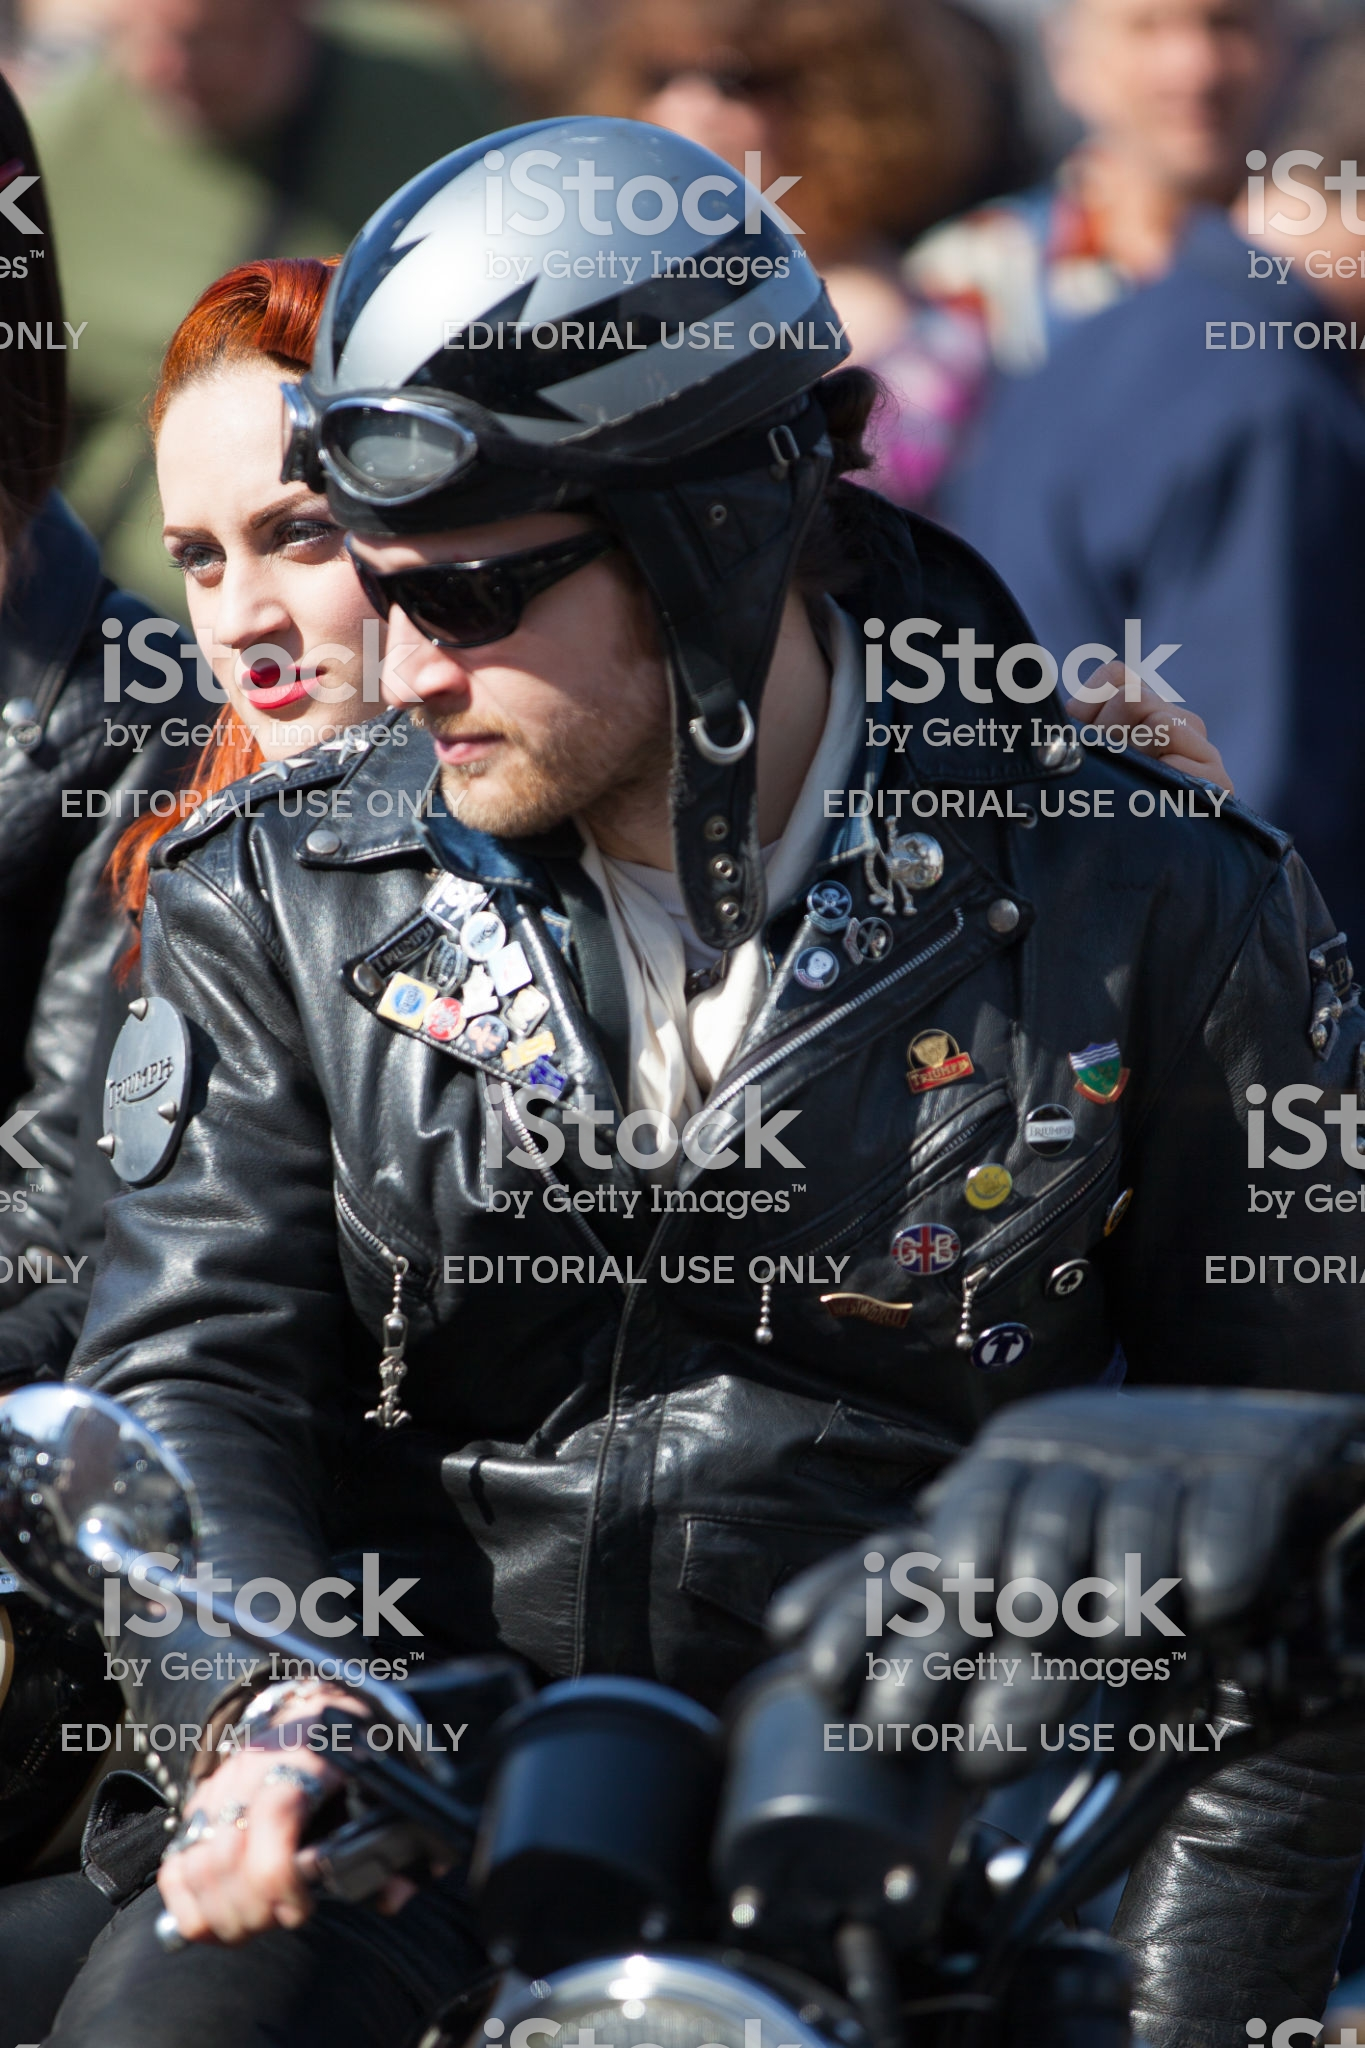helmet: (296, 128, 842, 513)
